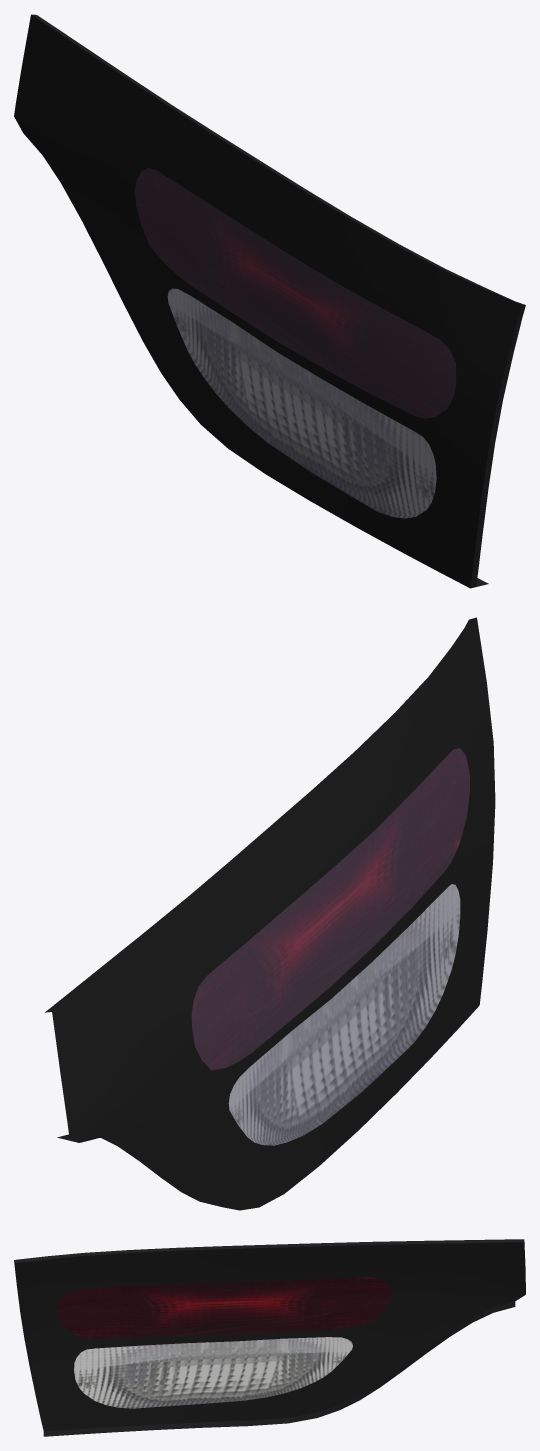
3 views of the same model, one above another, from view 1: azimuth 30°, elevation 25°; view 2: azimuth 150°, elevation 25°; view 3: azimuth 270°, elevation 25° (orthographic). The views are drawn at different scales.
Parts seen in each view (by area): view 1: P353_20_541D_R_P353_20_541D_R_2_D, P353_20_541D_R_1_N_P353_20_541D_R, P353_20_541D_R_P353_20_541D_R_4_DTaSI, P353_20_541D_R_P353_20_541D_R_3_DTaSI; view 2: P353_20_541D_R_P353_20_541D_R_2_D, P353_20_541D_R_1_N_P353_20_541D_R, P353_20_541D_R_P353_20_541D_R_4_DTaSI, P353_20_541D_R_P353_20_541D_R_3_DTaSI; view 3: P353_20_541D_R_P353_20_541D_R_2_D, P353_20_541D_R_1_N_P353_20_541D_R.
Boxes of the visible parts, x1,y1,x2,y2 form: P353_20_541D_R_P353_20_541D_R_2_D: [14, 14, 525, 588]; P353_20_541D_R_1_N_P353_20_541D_R: [135, 168, 456, 518]; P353_20_541D_R_P353_20_541D_R_4_DTaSI: [135, 168, 455, 418]; P353_20_541D_R_P353_20_541D_R_3_DTaSI: [168, 288, 436, 518]; P353_20_541D_R_P353_20_541D_R_2_D: [45, 617, 495, 1210]; P353_20_541D_R_1_N_P353_20_541D_R: [191, 748, 469, 1145]; P353_20_541D_R_P353_20_541D_R_4_DTaSI: [192, 748, 469, 1070]; P353_20_541D_R_P353_20_541D_R_3_DTaSI: [229, 884, 459, 1145]; P353_20_541D_R_P353_20_541D_R_2_D: [14, 1239, 525, 1436]; P353_20_541D_R_1_N_P353_20_541D_R: [57, 1277, 390, 1408].
Size of the model in its own units: 7.13 by 21.95 by 56.81.
